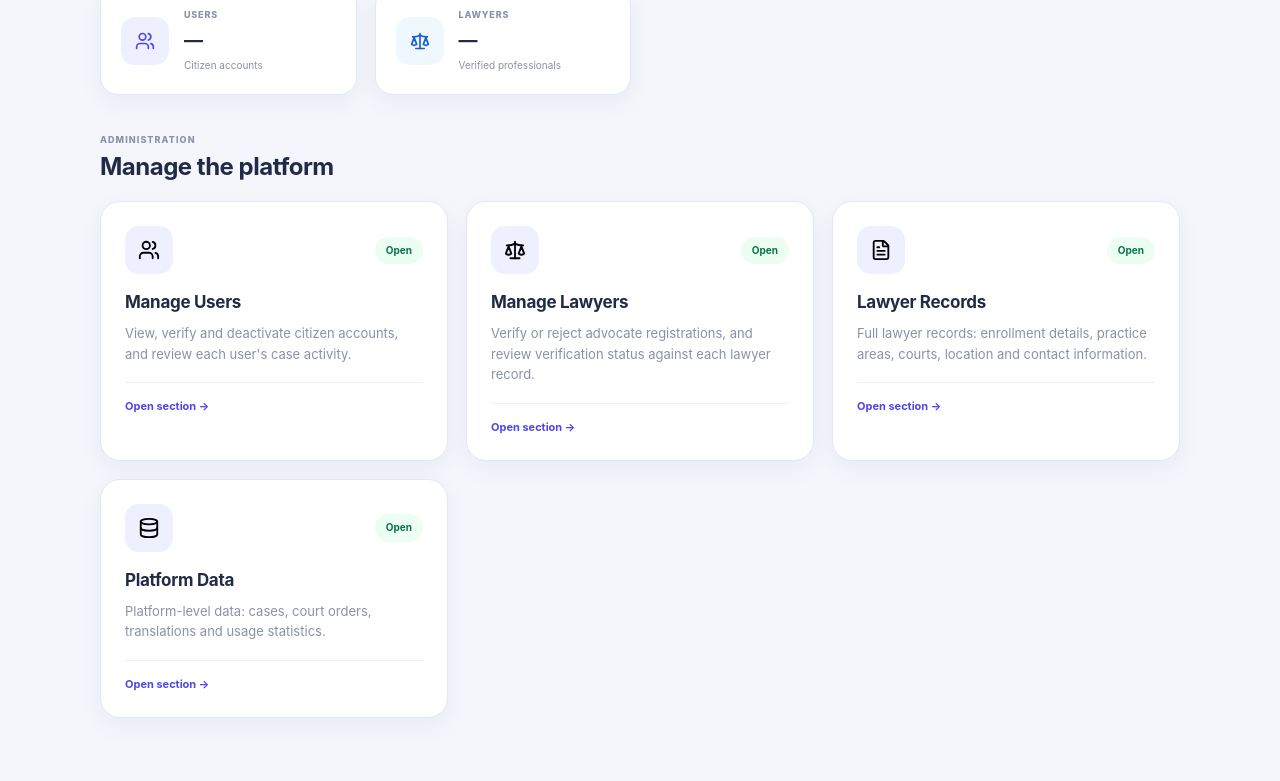
Test case: ruling on a registration › keeps the old status and shows the reason when refused
(page scrolled)
Step 1. Click the button "Manage Lawyers" → (640,331), box [466, 201, 814, 461]
(page scrolled)
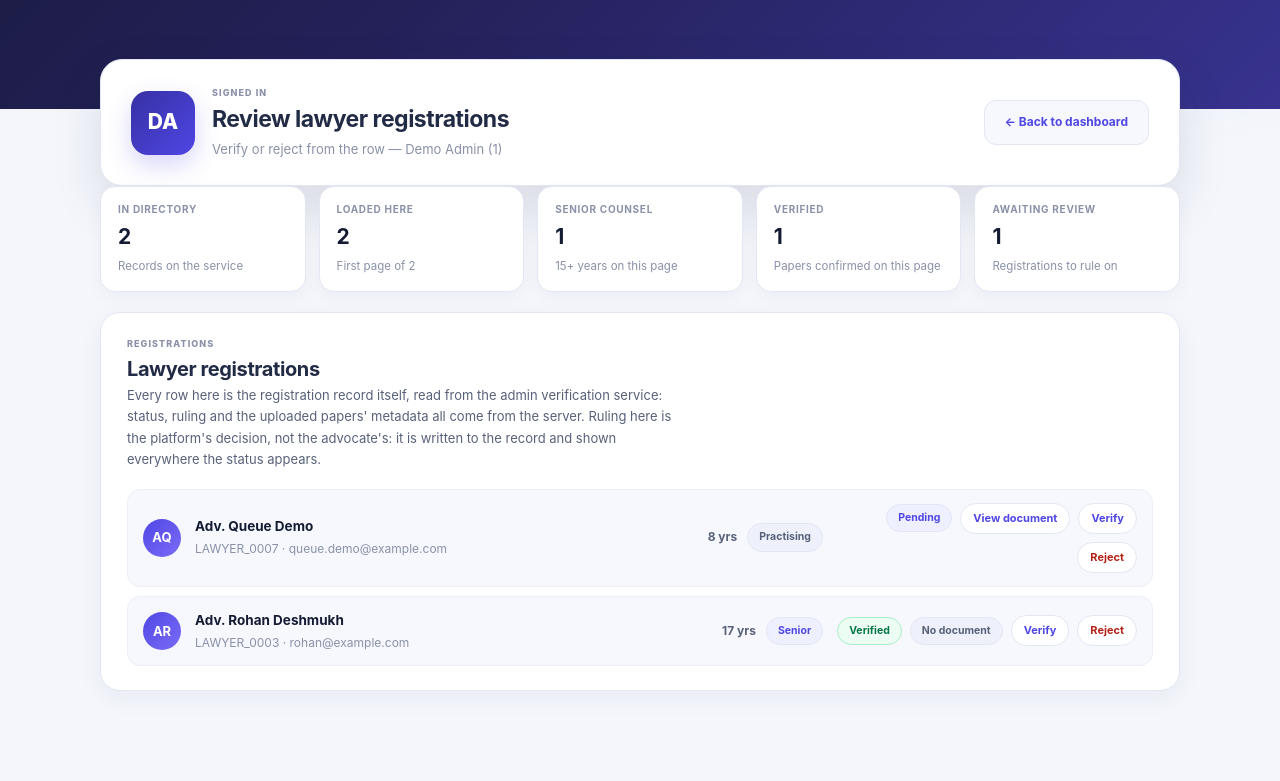
Result: the text "Adv. Queue Demo" is shown at [195, 518, 313, 534]
Step 2. Click the 1st button "Reject" → (1107,557), box [1077, 542, 1137, 573]
(page scrolled)
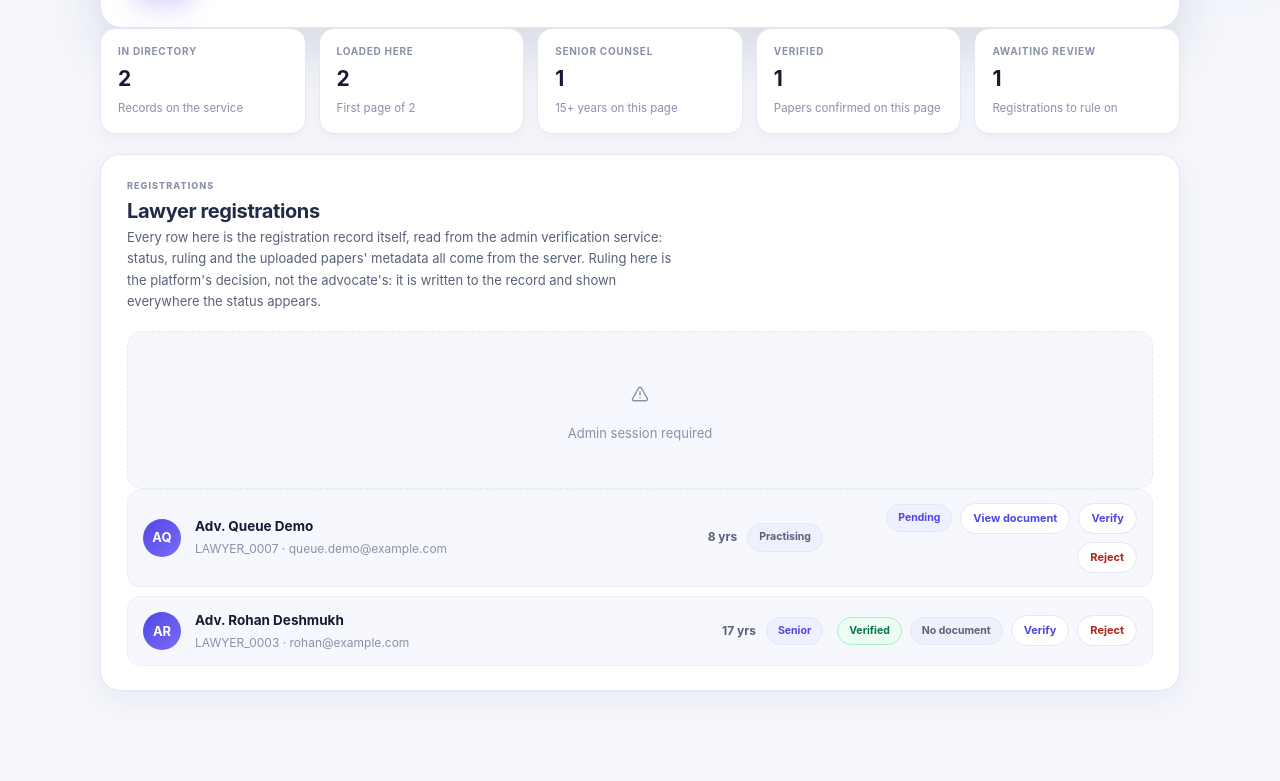
Result: the text "Pending" is shown at [886, 504, 952, 532]
Result: the 1st button "Reject" is enabled at [1077, 542, 1137, 572]
Result: the message reads "Admin session required" at [568, 425, 712, 441]
